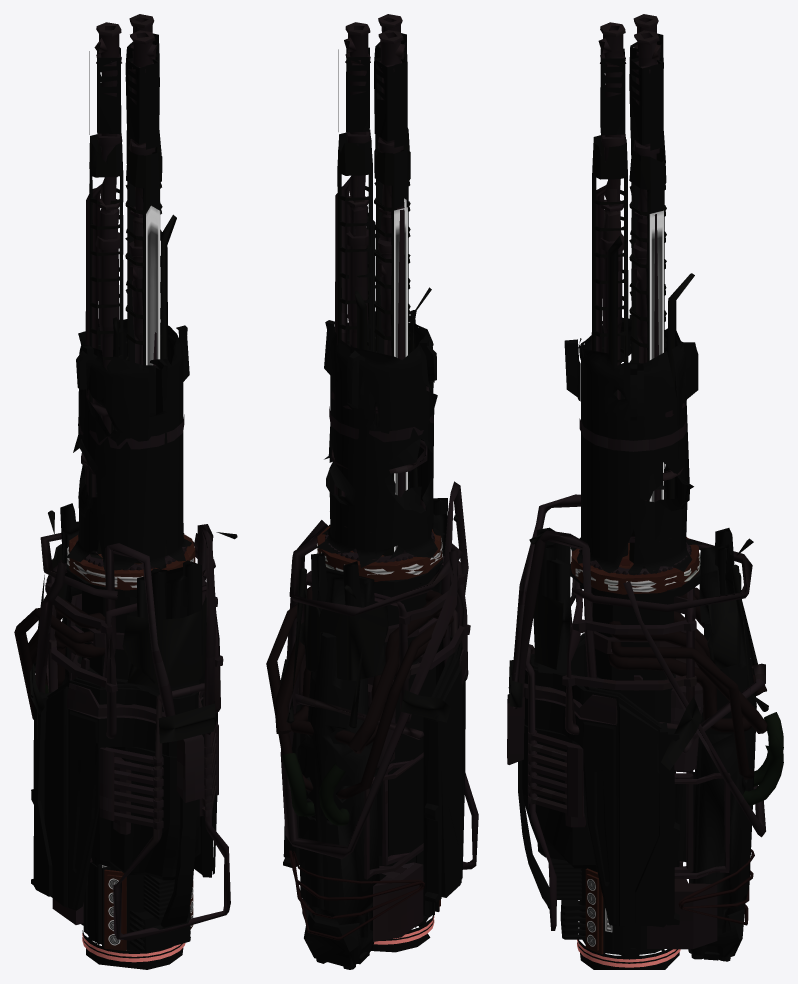
File: deathroll-s2-gatling.glb
The picture shows the model from 3 angles, left to right: view 1: azimuth 30°, elevation 25°; view 2: azimuth 150°, elevation 25°; view 3: azimuth 270°, elevation 25°; orthographic projection. The views are drawn at different scales.
Visible parts, largest first — view 1: bas_lvl1; view 2: bas_lvl1; view 3: bas_lvl1.
Part boxes in pixels (x1,y1,x2,y2): bas_lvl1: [14, 14, 237, 969]; bas_lvl1: [266, 14, 478, 969]; bas_lvl1: [507, 14, 783, 969].
Bounding box in the file's own units: 0.3929 × 2.06 × 0.5547.
11 materials, 6 textured.
